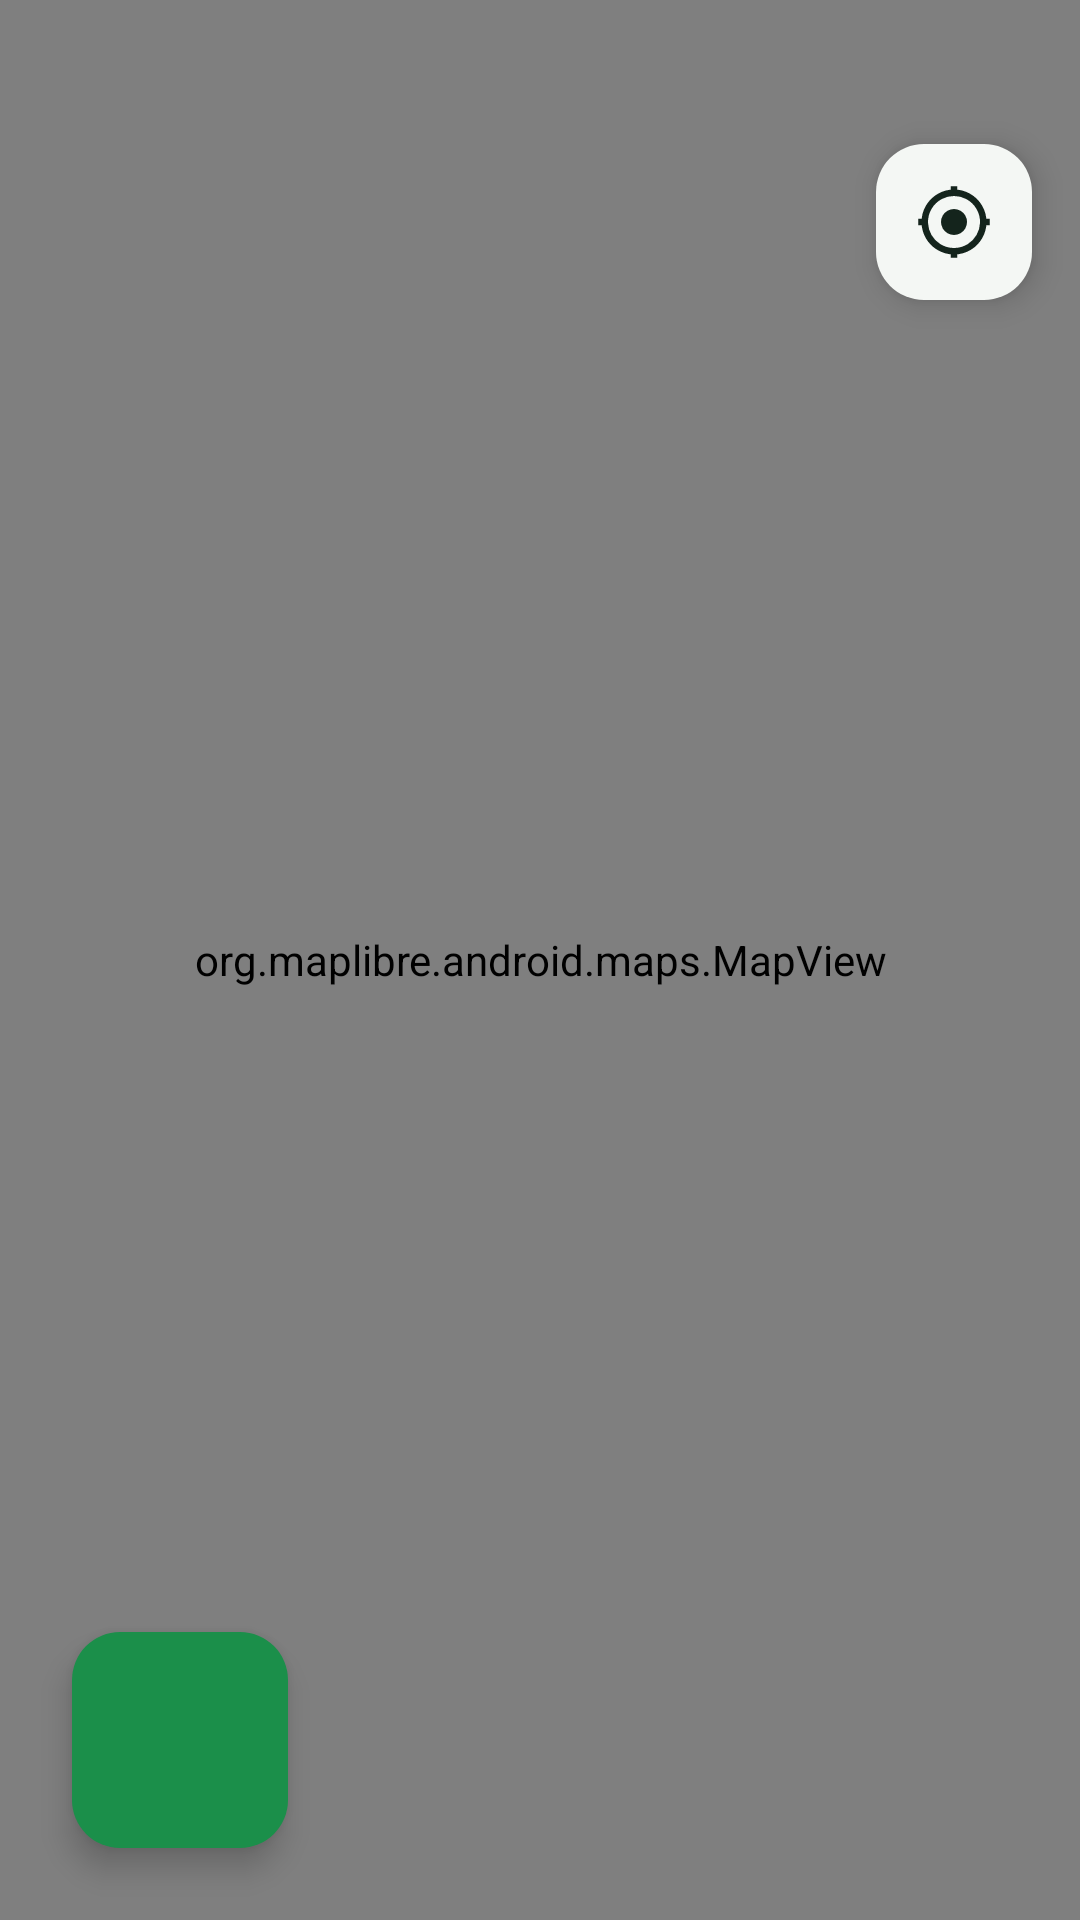

Screen size 1080w x 1920h. Icon name, then its center in pixels as (x=x, y=y):
Centre on GPS: (x=954, y=222)
